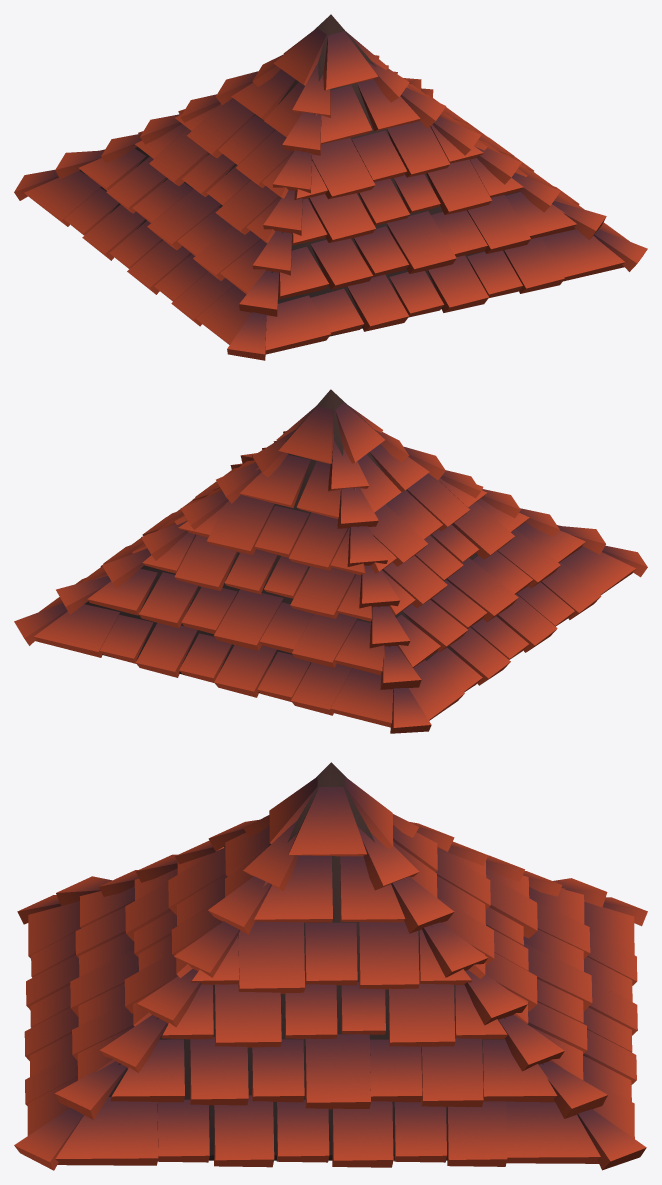
Rendered from RoofA01.fbx.
3 views of the same model, one above another, from view 1: azimuth 30°, elevation 25°; view 2: azimuth 150°, elevation 25°; view 3: azimuth 270°, elevation 25° (orthographic). The views are drawn at different scales.
Parts seen in each view (by area): view 1: RoofA01; view 2: RoofA01; view 3: RoofA01.
Part boxes in pixels (x1,y1,x2,y2): RoofA01: [14, 14, 647, 360]; RoofA01: [14, 389, 647, 733]; RoofA01: [14, 762, 647, 1170].
Size of the model in its own units: 772 by 380 by 776.
Materials: 1 (1 with a texture image).
